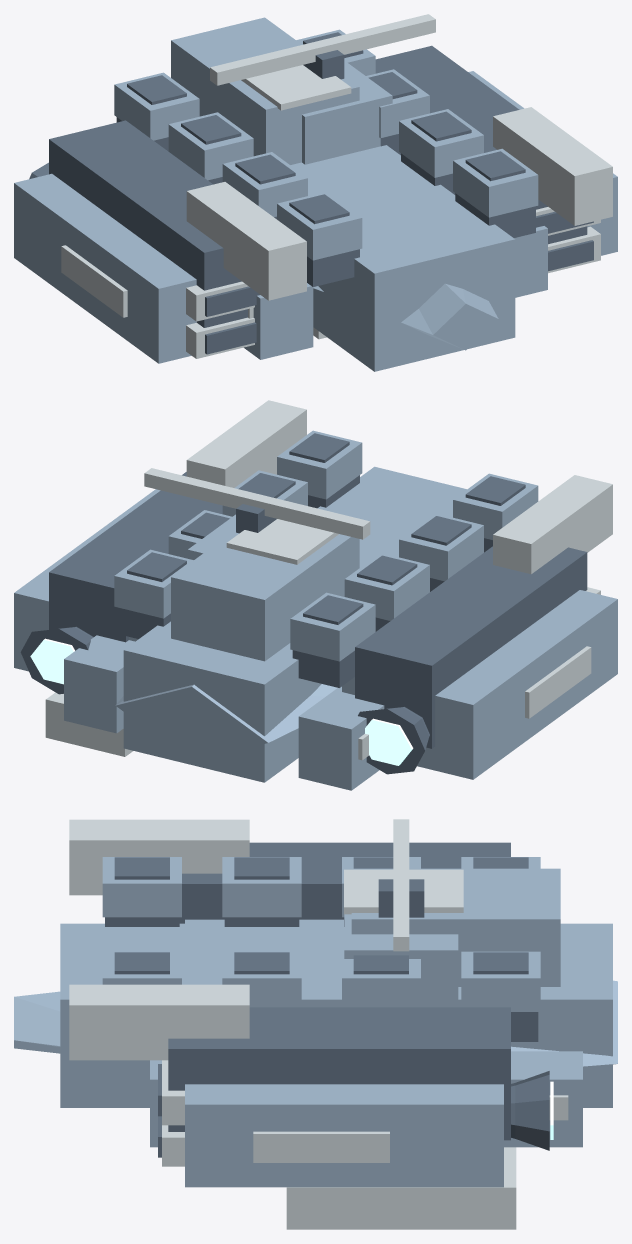
The picture shows the model from 3 angles, top to bottom: view 1: azimuth 30°, elevation 25°; view 2: azimuth 150°, elevation 25°; view 3: azimuth 270°, elevation 25°; orthographic projection. The views are drawn at different scales.
Bounding box in the file's own units: 15.95 × 7.85 × 16.17.
